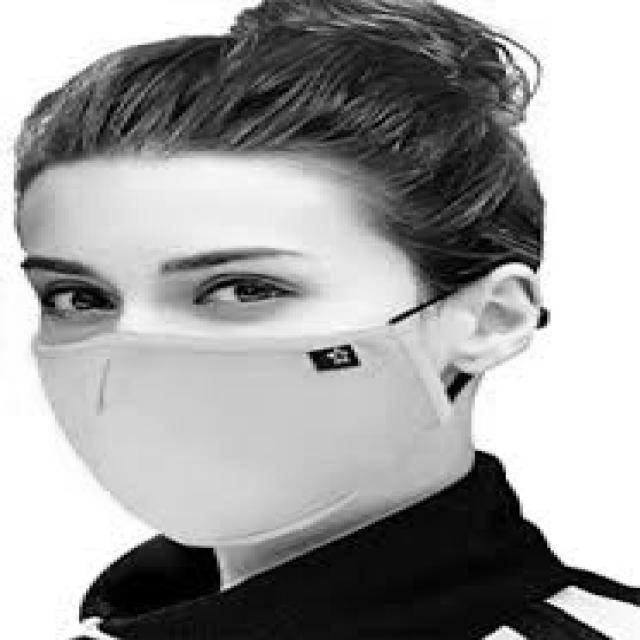fake: (31, 324, 449, 551)
real: (19, 159, 444, 559)
